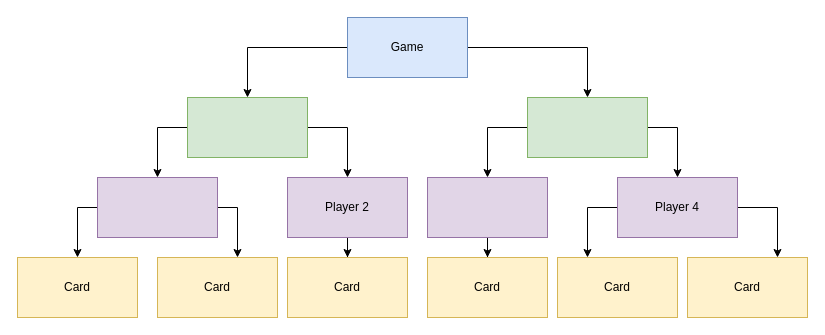
The diagram is 825 pixels wide and 335 high, and some of its shapes have lost their labels. Each missing label, with the centre of its shape:
"Player 1" belongs at (x=157, y=207).
"Player 3" belongs at (x=487, y=207).
"Team 1" belongs at (x=247, y=127).
"Team 2" belongs at (x=587, y=127).
